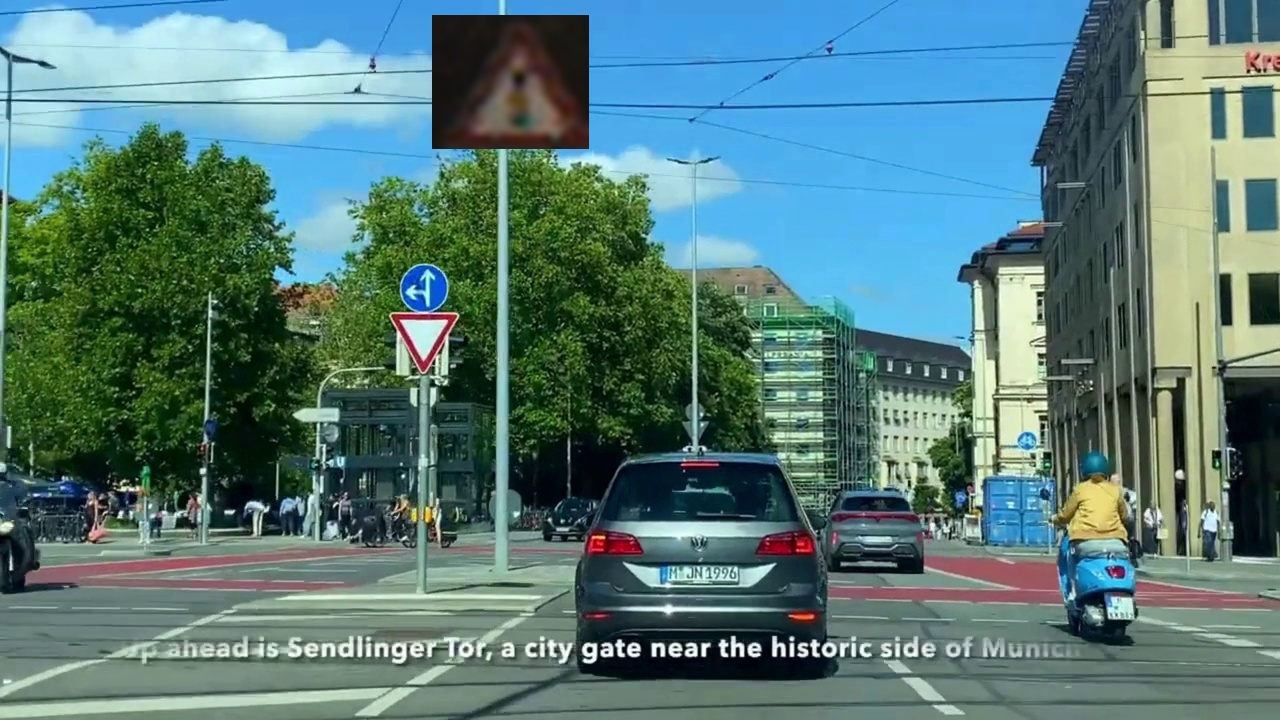Signals: (432, 15, 589, 149)
